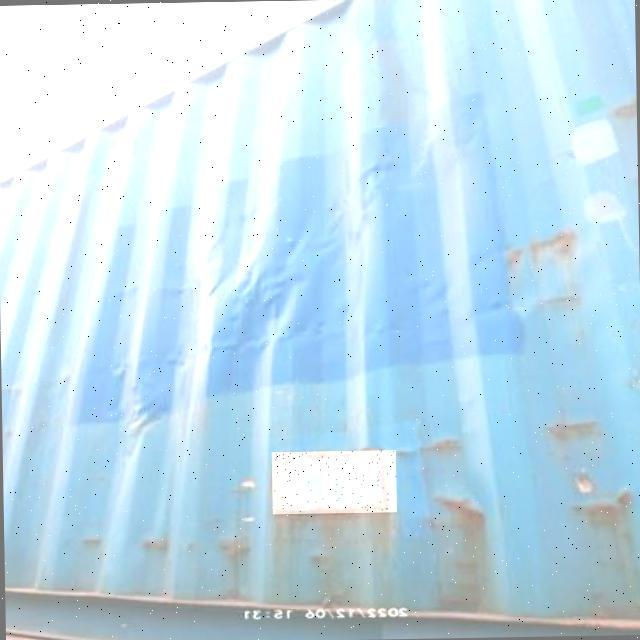Rust: (272, 450, 396, 511)
